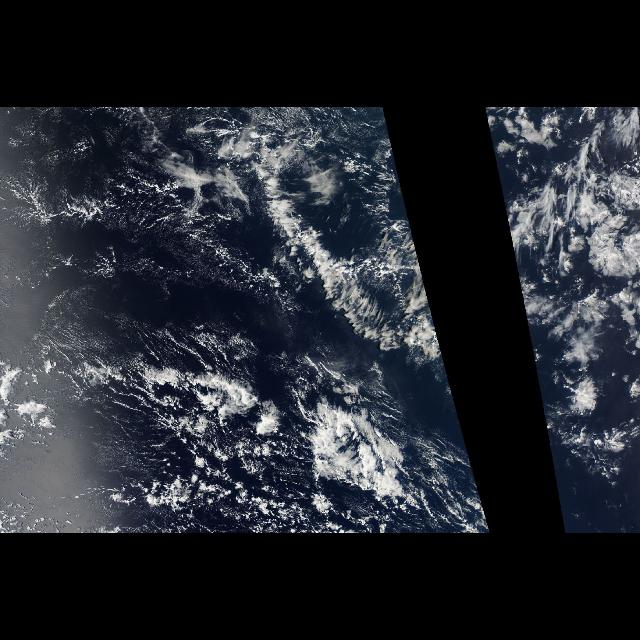Fish: (68, 116, 462, 490)
Sugar: (0, 108, 234, 340)
